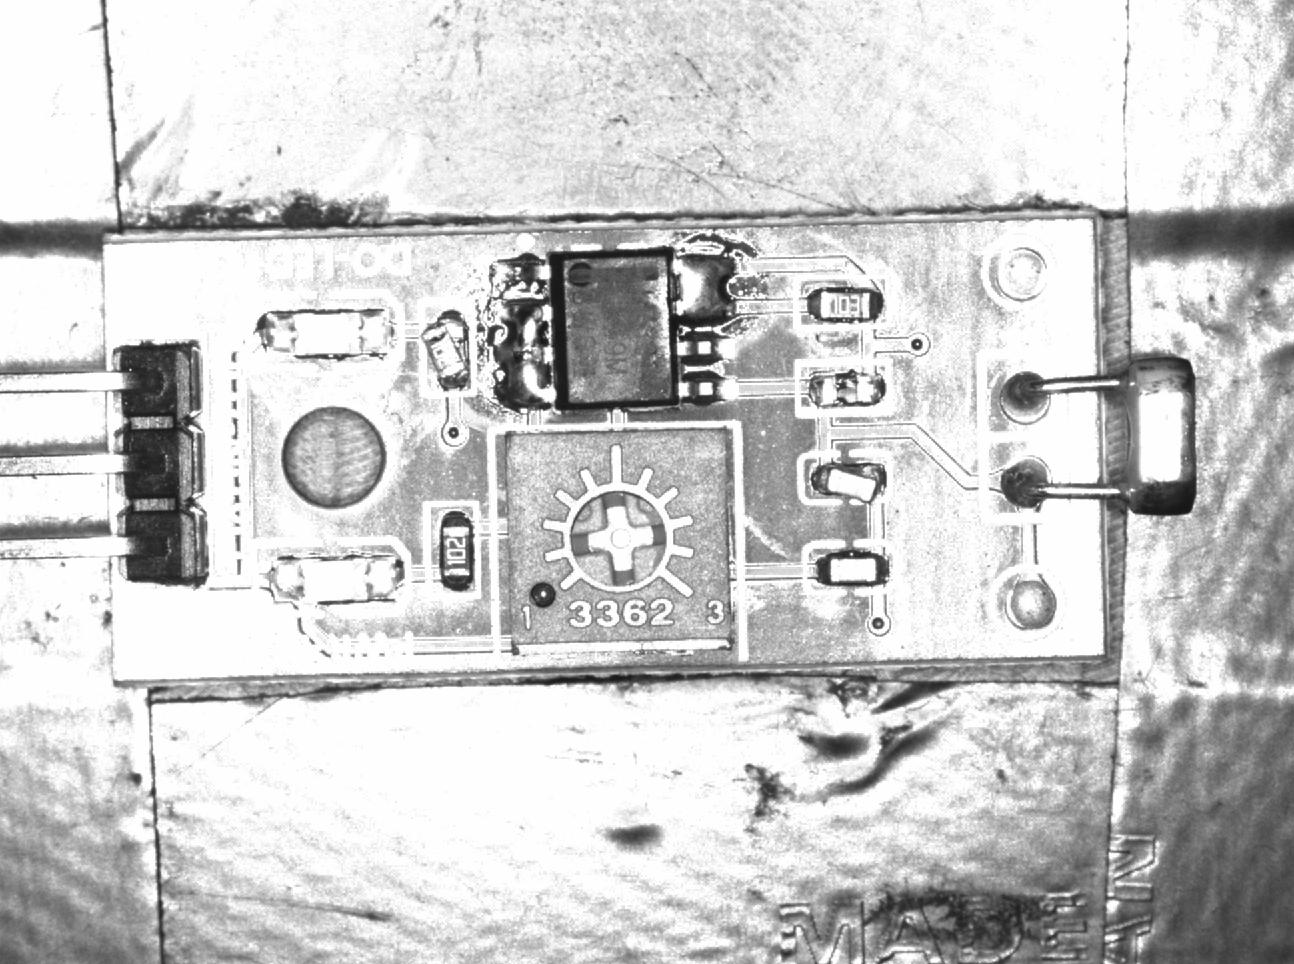bridge: (488, 296, 557, 415), (672, 249, 742, 325)
lifted: (421, 300, 478, 397), (801, 452, 892, 503)
miss: (798, 361, 892, 411)
ok: (426, 503, 480, 598), (795, 275, 889, 329), (803, 543, 900, 593)
